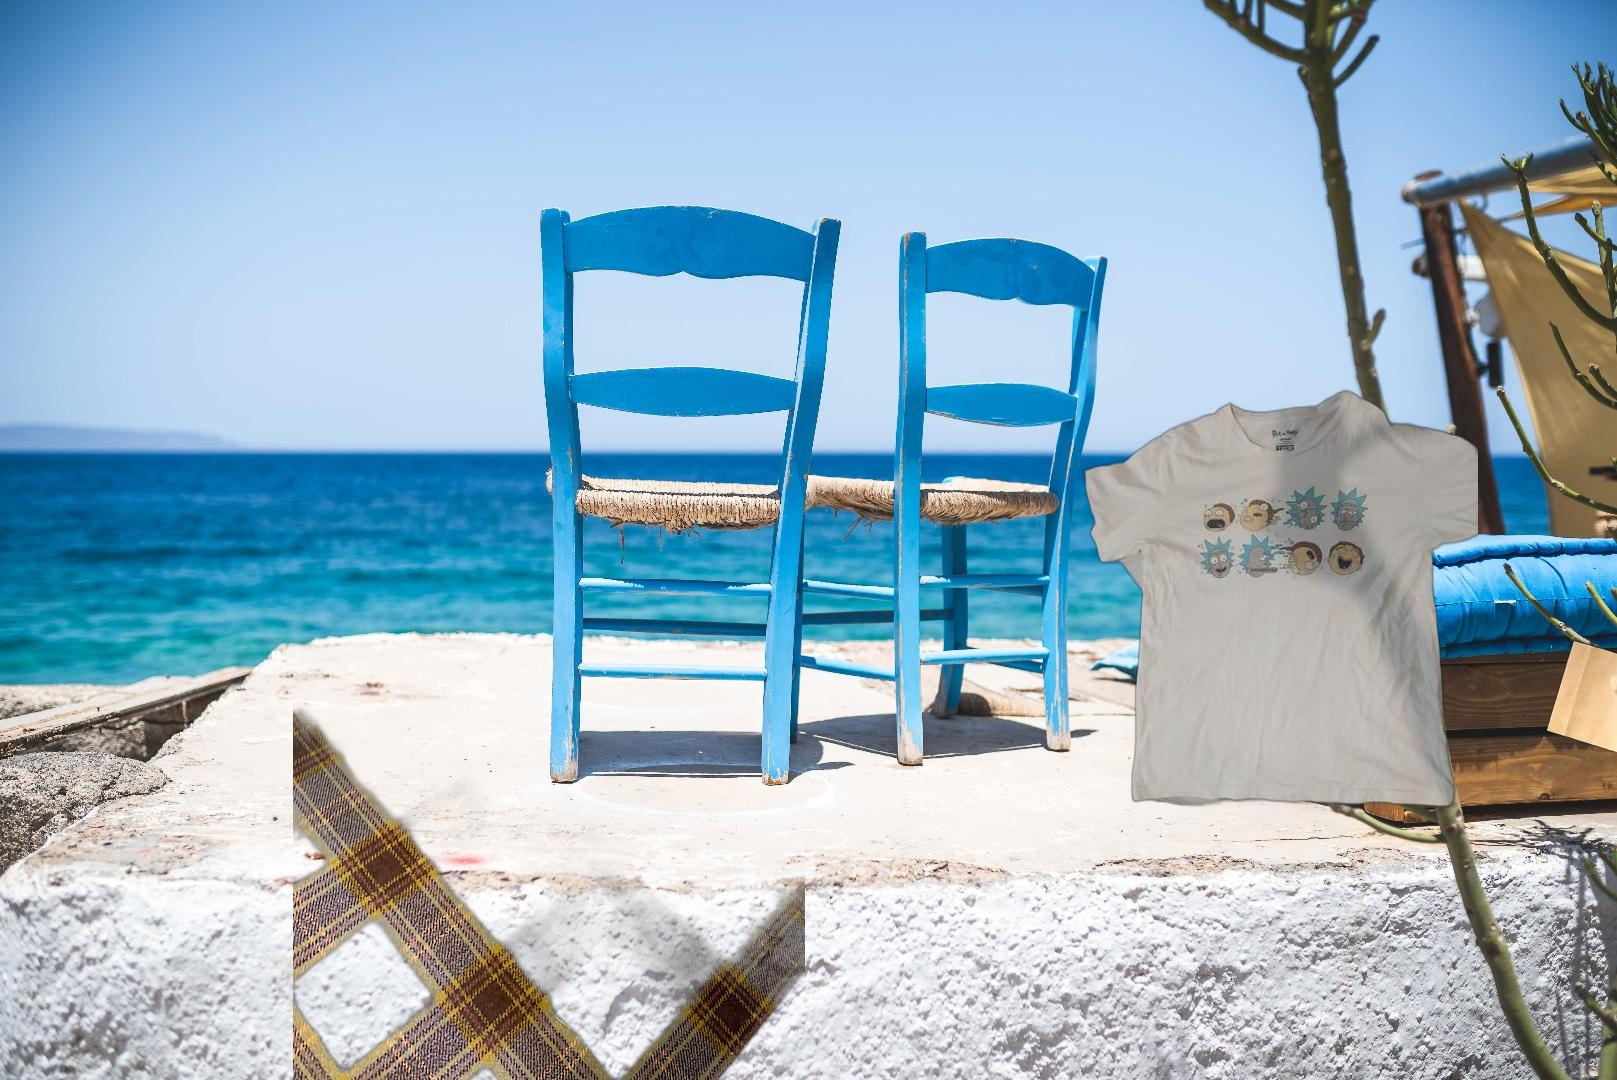clothes: (1080, 387, 1478, 812)
glass: (293, 579, 805, 1080)
paper-bag: (1543, 635, 1617, 855)
